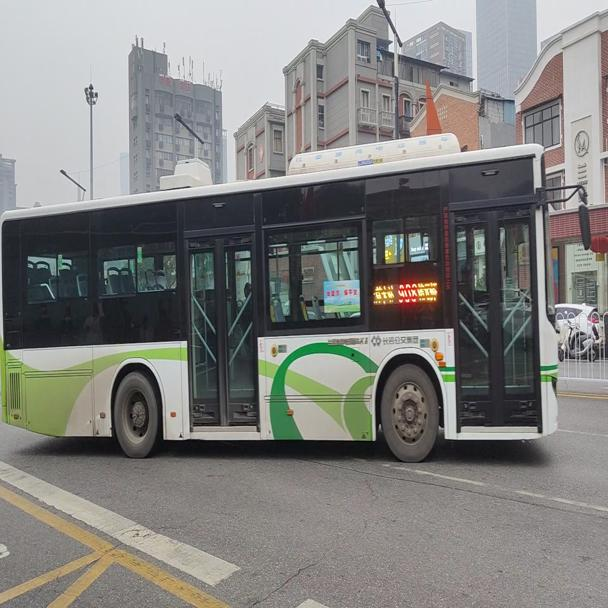bus: (2, 136, 563, 463)
screen: (395, 279, 418, 304)
